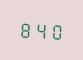eight: (18, 18, 32, 39)
four: (34, 19, 48, 40)
zero: (49, 20, 63, 41)
